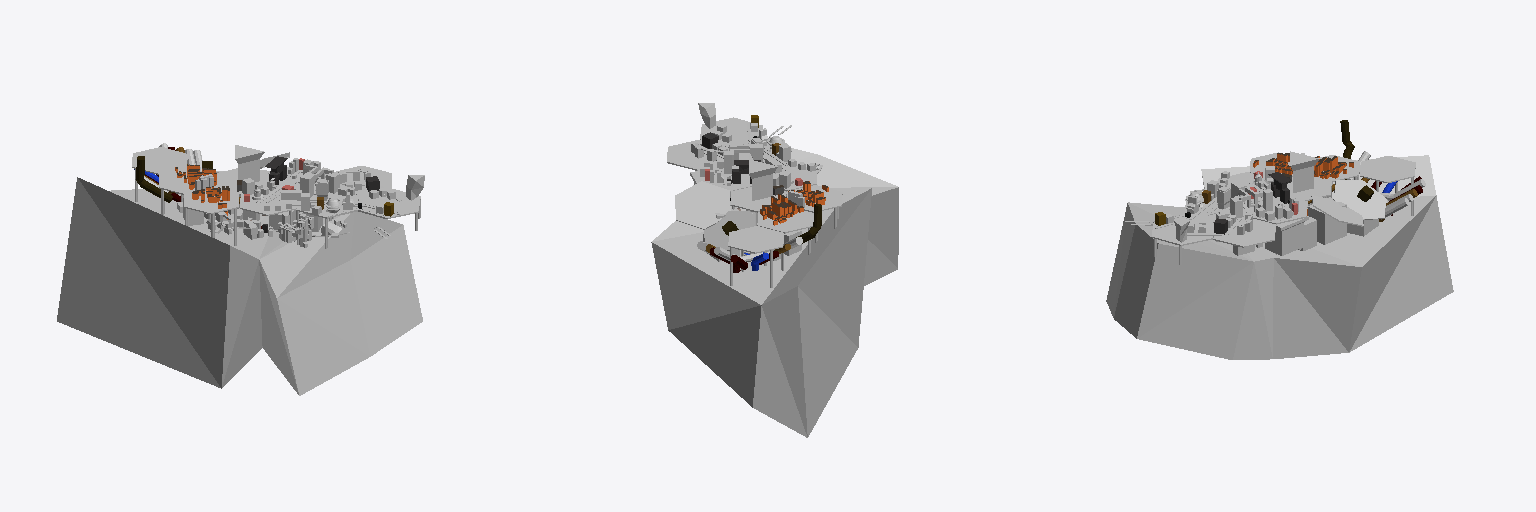
The model's file is megacitythree.obj.
The picture shows the model from 3 angles: view 1: azimuth 30°, elevation 25°; view 2: azimuth 150°, elevation 25°; view 3: azimuth 270°, elevation 25°; orthographic projection.
Visible parts, largest first — view 1: Cube.060, Cylinder.085, Cylinder.038, Cylinder.099, Cylinder.054, Cylinder.053, Cylinder.083, Cylinder.055; view 2: Cube.060, Cylinder.098, Cylinder.085, Cylinder.084, Cylinder.099, Cylinder.055, Cylinder.038, Cylinder.083, Cylinder.056; view 3: Cube.060, Cylinder.084, Cylinder.085, Cube.457, Cylinder.055, Cube.474, Cylinder.099, Cylinder.038, Cylinder.098, Cylinder.056.
Part boxes in pixels (x1,y1,x2,y2): Cube.060: (57,177,422,395); Cylinder.085: (132,147,187,174); Cylinder.038: (357,188,420,218); Cylinder.099: (235,145,264,181); Cylinder.054: (184,187,239,213); Cylinder.053: (240,189,296,215); Cylinder.083: (159,167,202,194); Cylinder.055: (334,166,391,194); Cube.060: (651,148,898,437); Cylinder.098: (675,181,730,229); Cylinder.085: (728,226,783,253); Cylinder.084: (704,211,755,250); Cylinder.099: (749,159,777,200); Cylinder.055: (667,140,728,170); Cylinder.038: (700,117,762,147); Cylinder.083: (757,211,812,233); Cylinder.056: (731,187,786,212); Cube.060: (1106,155,1453,359); Cylinder.084: (1333,180,1386,219); Cylinder.085: (1360,156,1415,182); Cube.457: (1265,216,1308,255); Cylinder.055: (1213,217,1275,247); Cube.474: (1308,197,1346,244); Cylinder.099: (1290,151,1319,192); Cylinder.038: (1152,216,1213,245); Cylinder.098: (1311,195,1363,226); Cylinder.056: (1287,177,1331,200).
Size of the model in its own units: 1887 by 1463 by 2374.